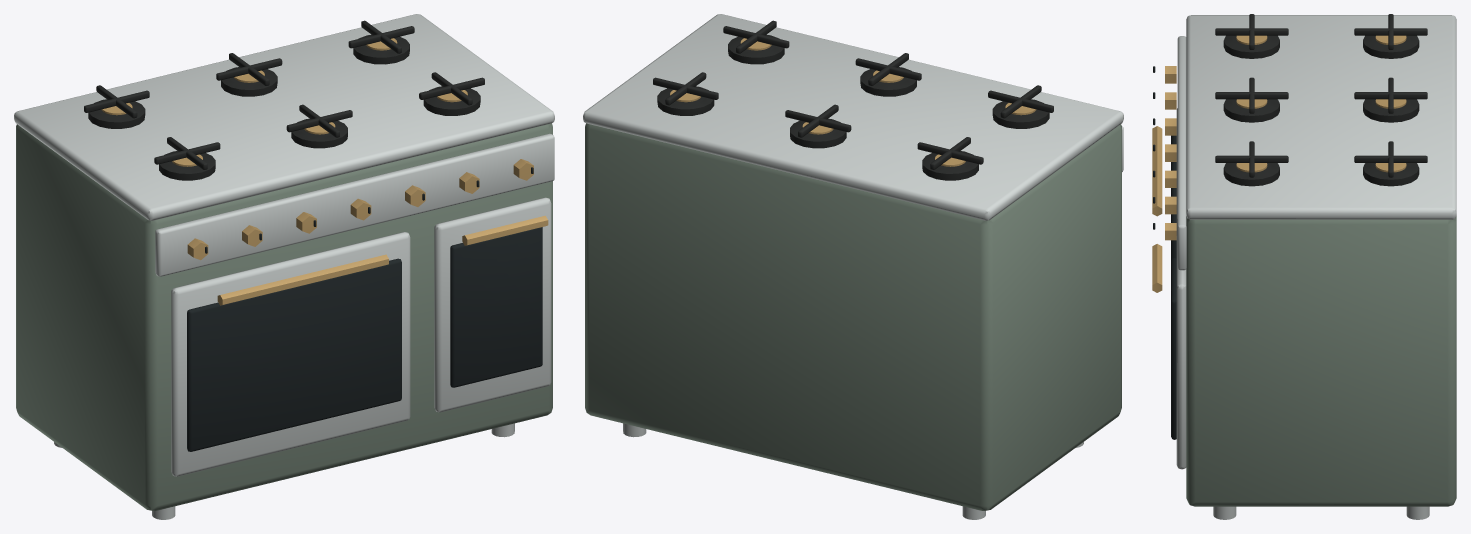
Rendered from italian-range-lod1.glb.
The picture shows the model from 3 angles, left to right: view 1: azimuth 30°, elevation 25°; view 2: azimuth 150°, elevation 25°; view 3: azimuth 270°, elevation 25°; orthographic projection.
Visible parts, largest first — view 1: italian-range.lod1__furniture polished nickel, italian-range.lod1__range sage enamel, italian-range.lod1__range black glass, italian-range.lod1__range cast iron, italian-range.lod1__furniture brushed brass; view 2: italian-range.lod1__range sage enamel, italian-range.lod1__furniture polished nickel, italian-range.lod1__range cast iron, italian-range.lod1__furniture brushed brass; view 3: italian-range.lod1__range sage enamel, italian-range.lod1__furniture polished nickel, italian-range.lod1__range cast iron, italian-range.lod1__furniture brushed brass, italian-range.lod1__range black glass.
Boxes of the visible parts, x1,y1,x2,y2 form: italian-range.lod1__furniture polished nickel: [14, 14, 554, 519]; italian-range.lod1__range sage enamel: [16, 123, 552, 510]; italian-range.lod1__range black glass: [187, 167, 542, 451]; italian-range.lod1__range cast iron: [84, 20, 484, 180]; italian-range.lod1__furniture brushed brass: [101, 38, 548, 305]; italian-range.lod1__range sage enamel: [585, 123, 1121, 510]; italian-range.lod1__furniture polished nickel: [583, 14, 1123, 519]; italian-range.lod1__range cast iron: [653, 20, 1053, 180]; italian-range.lod1__furniture brushed brass: [670, 38, 1036, 166]; italian-range.lod1__range sage enamel: [1186, 216, 1456, 506]; italian-range.lod1__furniture polished nickel: [1176, 15, 1456, 519]; italian-range.lod1__range cast iron: [1215, 14, 1427, 186]; italian-range.lod1__furniture brushed brass: [1152, 35, 1406, 292]; italian-range.lod1__range black glass: [1153, 66, 1176, 439].
Bounding box in the file's own units: 1.2 × 0.973 × 0.788.
